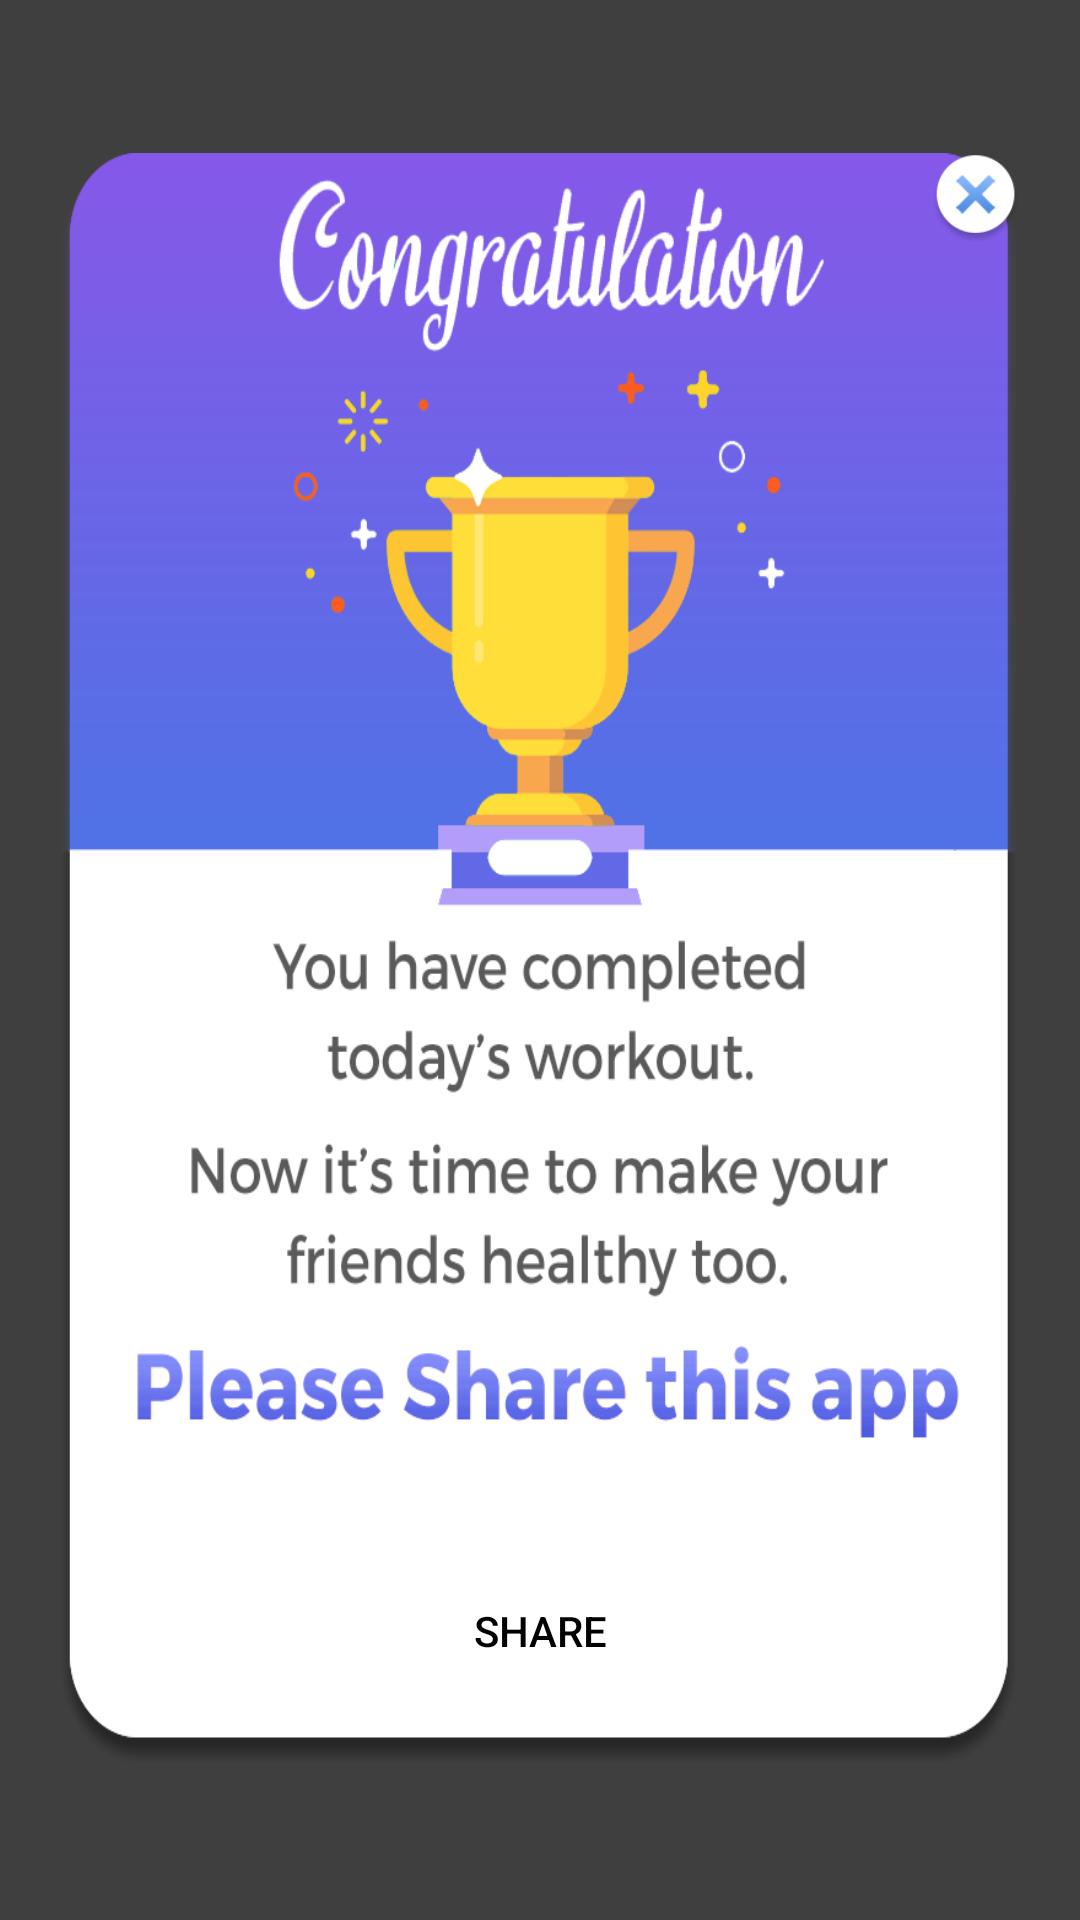

Point at icon controls on the screen. Image size 1080px x 1920px, points as point (x, y).
share close: point (975, 198)
